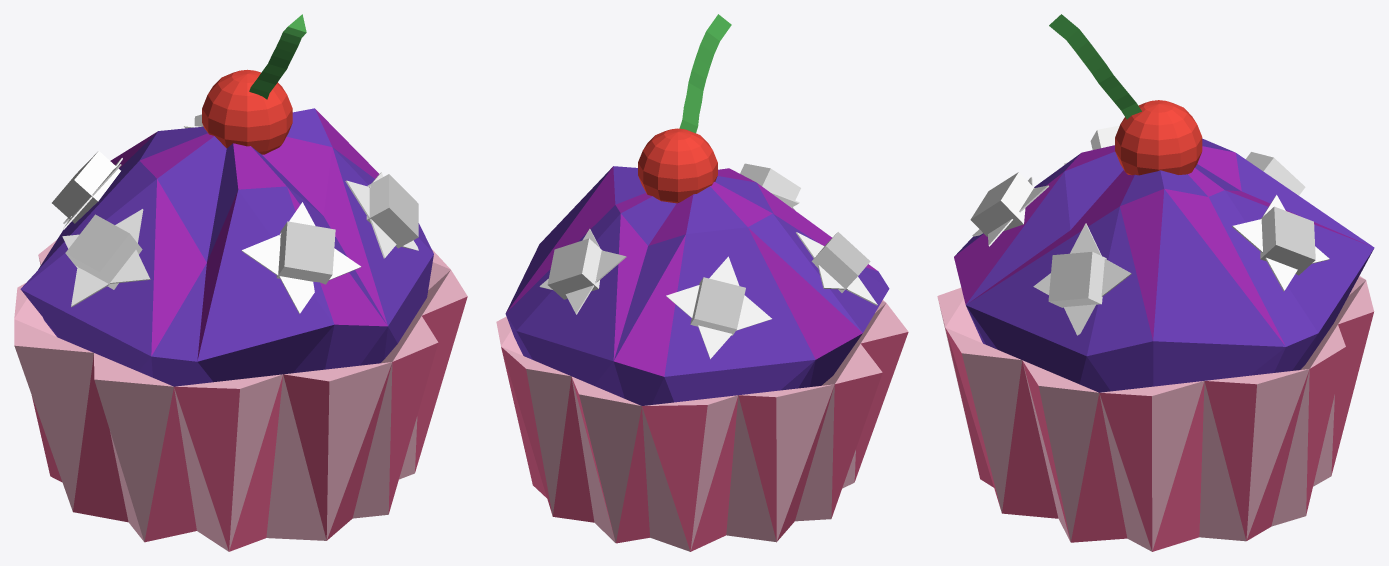
File: cupcake.fbx
3 renders of one model, left to right at view 1: azimuth 30°, elevation 25°; view 2: azimuth 150°, elevation 25°; view 3: azimuth 270°, elevation 25°, orthographic. The views are drawn at different scales.
Visible parts, largest first — view 1: group_958027728, mesh_387342367, group_2094792675; view 2: group_958027728, mesh_387342367, group_2094792675; view 3: group_958027728, mesh_387342367, group_2094792675.
Part boxes in pixels (x1,y1,x2,y2): group_958027728: (14, 108, 467, 551); mesh_387342367: (202, 69, 292, 154); group_2094792675: (249, 14, 306, 99); group_958027728: (496, 163, 908, 551); mesh_387342367: (638, 128, 717, 203); group_2094792675: (679, 14, 731, 133); group_958027728: (937, 125, 1374, 551); mesh_387342367: (1115, 100, 1202, 175); group_2094792675: (1049, 14, 1141, 119).
Bounding box in the file's own units: 20.72 × 23.6 × 19.75.
